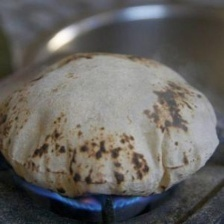roti: (0, 47, 222, 198)
